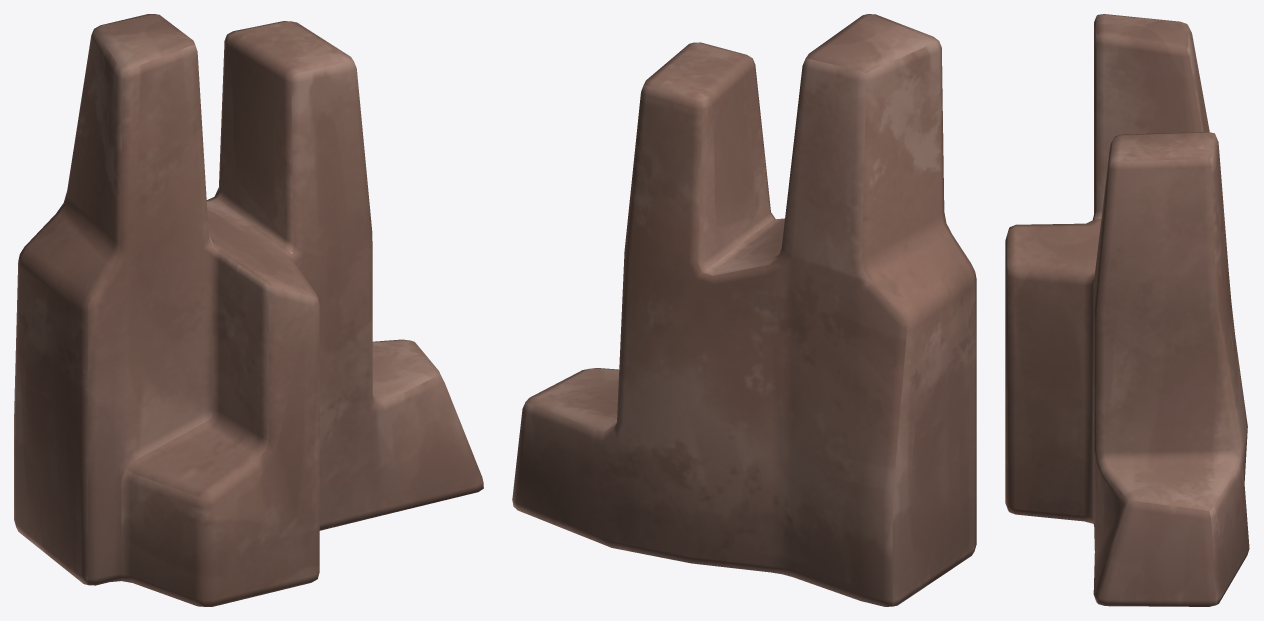
File: Rock_Crown.FBX
3 views of the same model, side by side, from view 1: azimuth 30°, elevation 25°; view 2: azimuth 150°, elevation 25°; view 3: azimuth 270°, elevation 25° (orthographic). The views are drawn at different scales.
Parts seen in each view (by area): view 1: Z2_Crown_1_Low001; view 2: Z2_Crown_1_Low001; view 3: Z2_Crown_1_Low001.
Part boxes in pixels (bbox=[...]): Z2_Crown_1_Low001: bbox=[14, 14, 483, 606]; Z2_Crown_1_Low001: bbox=[512, 14, 976, 606]; Z2_Crown_1_Low001: bbox=[1005, 14, 1249, 606].
Bounding box in the file's own units: 1247 × 1544 × 754.
